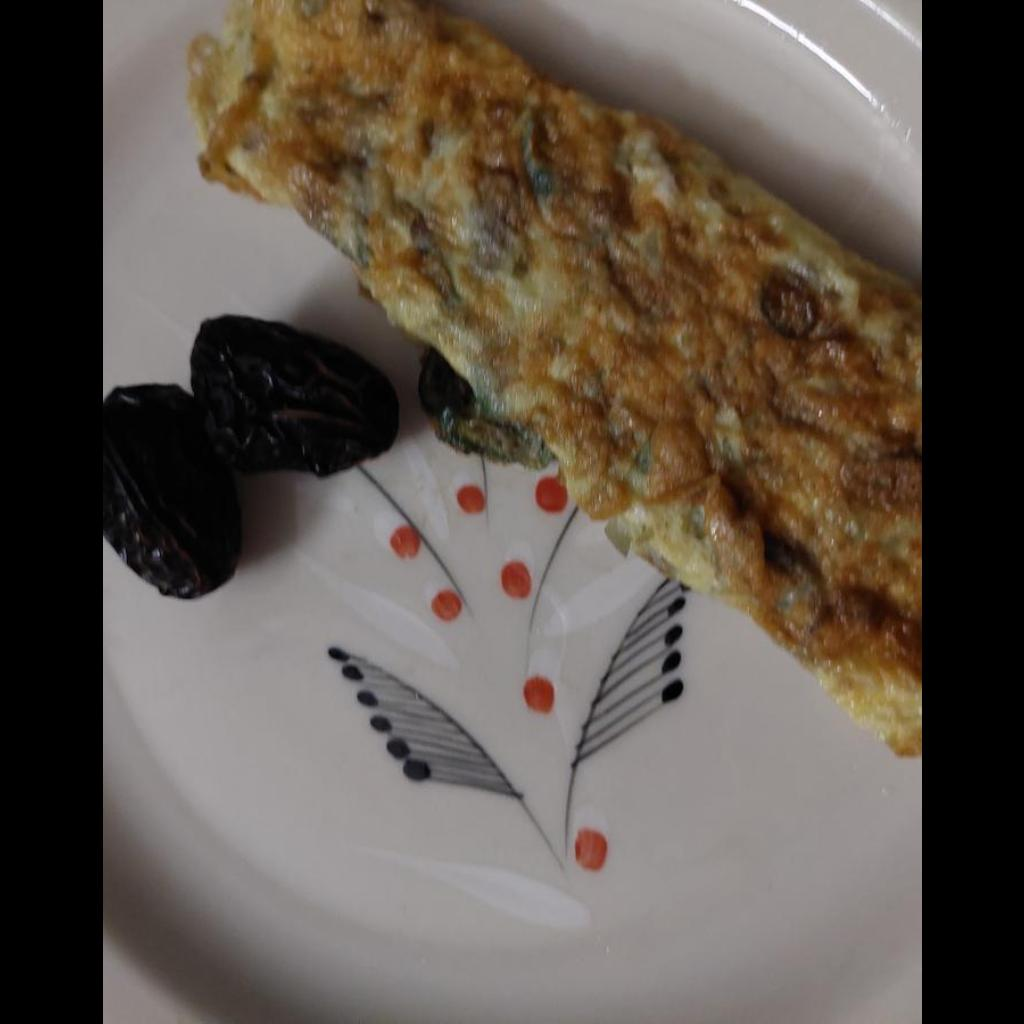dates: (104, 316, 406, 593)
egg-poached: (185, 1, 918, 764)
